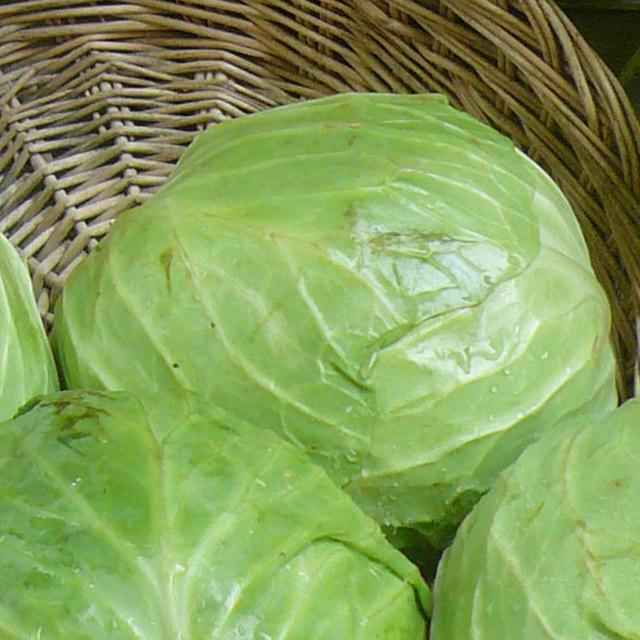cabbage: (71, 82, 620, 557), (0, 367, 422, 640)
